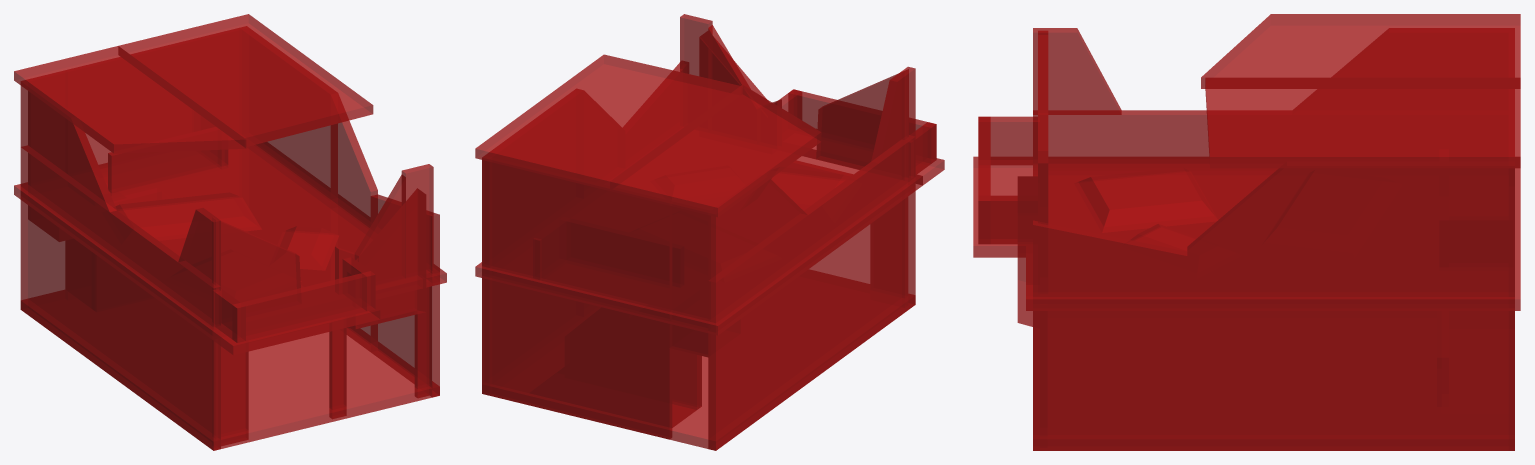
The model's file is SM_Bld_Shop_09_Destroyed_Collision.fbx.
The picture shows the model from 3 angles, left to right: view 1: azimuth 30°, elevation 25°; view 2: azimuth 150°, elevation 25°; view 3: azimuth 270°, elevation 25°; orthographic projection. The views are drawn at different scales.
Parts seen in each view (by area): view 1: SM_Bld_Shop_09_Destroyed_Collision; view 2: SM_Bld_Shop_09_Destroyed_Collision; view 3: SM_Bld_Shop_09_Destroyed_Collision.
Boxes of the visible parts, x1,y1,x2,y2 form: SM_Bld_Shop_09_Destroyed_Collision: [14, 14, 446, 450]; SM_Bld_Shop_09_Destroyed_Collision: [475, 14, 944, 450]; SM_Bld_Shop_09_Destroyed_Collision: [973, 14, 1520, 450].
Size of the model in its own units: 702 by 679 by 1136.
